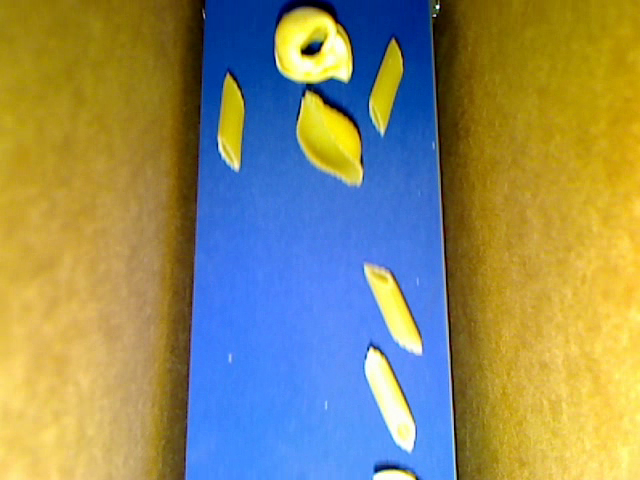penne: (363, 344, 417, 453), (362, 262, 420, 354), (368, 40, 403, 138), (217, 73, 245, 169)
shell: (294, 90, 363, 186)
tortellini: (274, 8, 353, 84)
